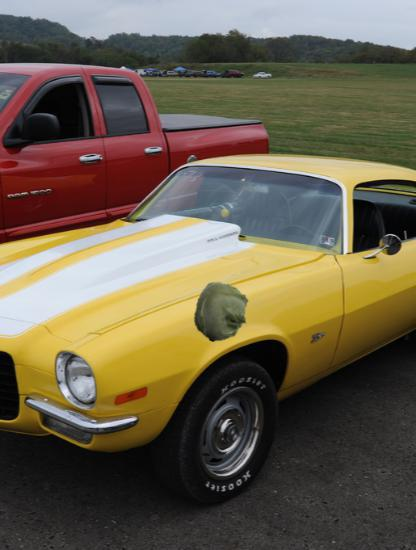Kohlrabi: (192, 283, 252, 343)
